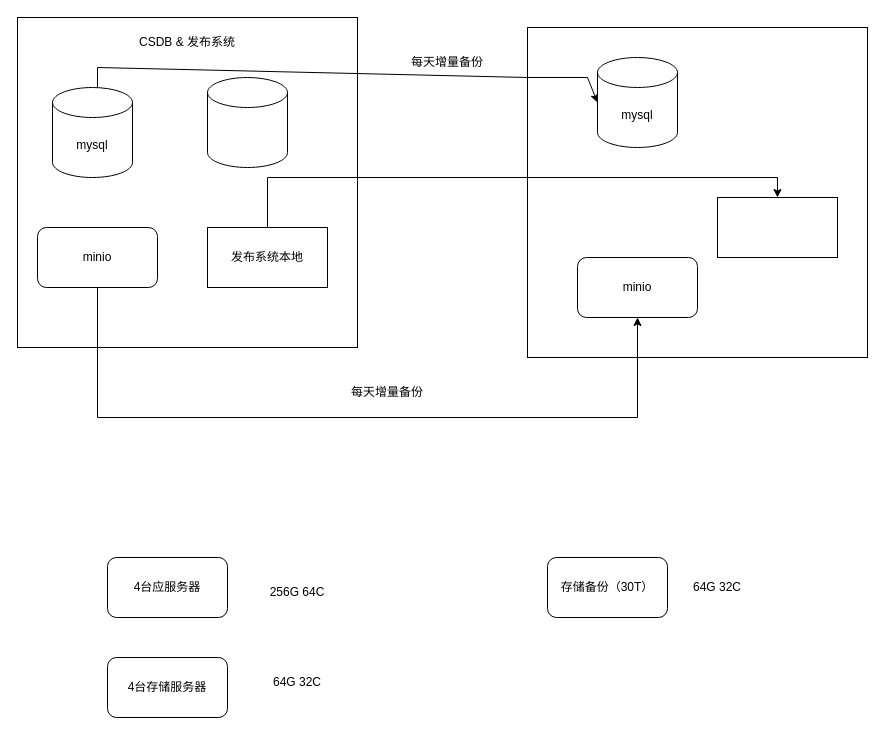
This 885x735 diagram has some shape labels left out. Each missing label, with the centre of its shape:
"mysql 2" belongs at pixel 247 122.
"发布系统备份" belongs at pixel 777 227.
